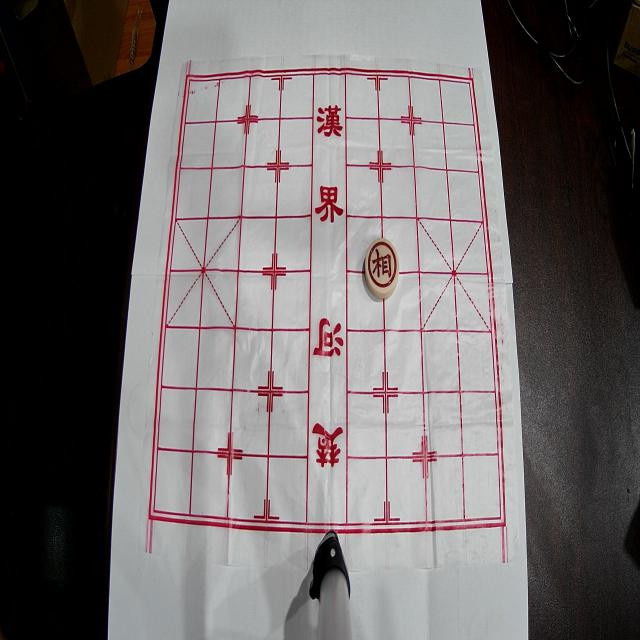red-elephant: (365, 238, 399, 299)
